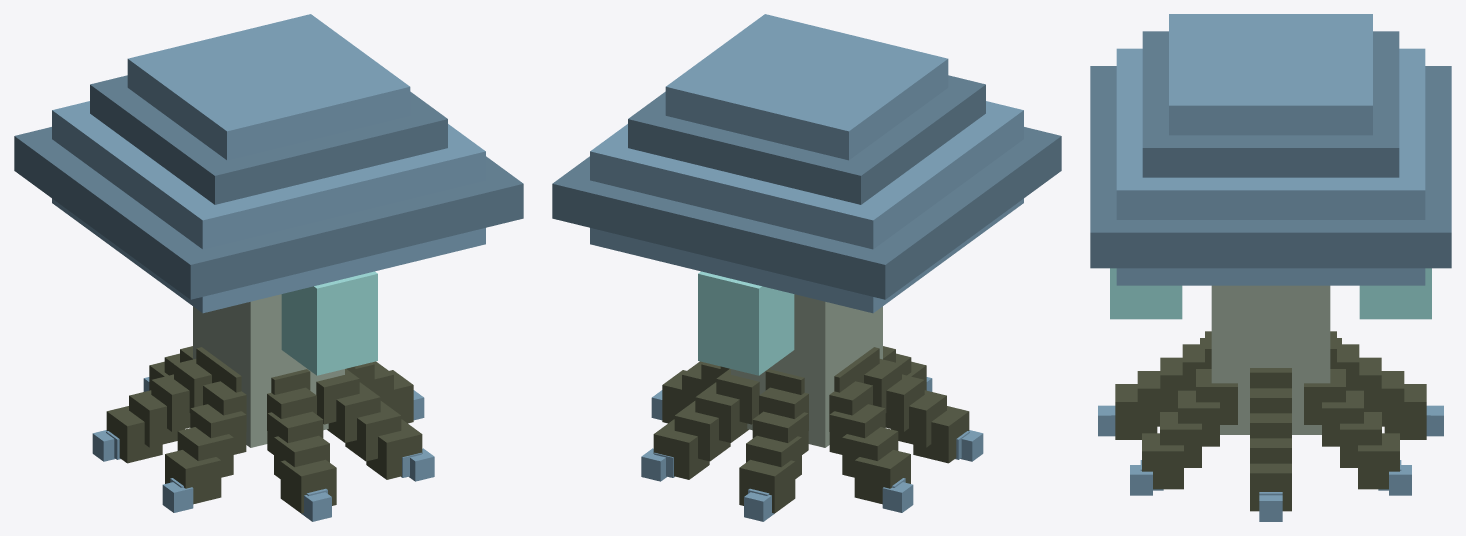
Rendered from fog-spore.glb.
3 views of the same model, side by side, from view 1: azimuth 30°, elevation 25°; view 2: azimuth 150°, elevation 25°; view 3: azimuth 270°, elevation 25° (orthographic). The views are drawn at different scales.
Parts seen in each view (by area): view 1: SporeCap, RootLimbs, HangingSporeSacs, Stem, RootTips; view 2: SporeCap, RootLimbs, HangingSporeSacs, Stem, RootTips; view 3: SporeCap, RootLimbs, Stem, HangingSporeSacs, RootTips.
Boxes of the visible parts, left/top/right/bottom form: SporeCap: left=14, top=14, right=523, bottom=313; RootLimbs: left=106, top=346, right=422, bottom=513; HangingSporeSacs: left=281, top=271, right=377, bottom=375; Stem: left=193, top=294, right=344, bottom=447; RootTips: left=92, top=377, right=434, bottom=521; SporeCap: left=552, top=14, right=1061, bottom=313; RootLimbs: left=653, top=346, right=969, bottom=513; HangingSporeSacs: left=698, top=271, right=794, bottom=375; Stem: left=731, top=294, right=882, bottom=447; RootTips: left=641, top=377, right=983, bottom=521; SporeCap: left=1090, top=14, right=1451, bottom=285; RootLimbs: left=1115, top=331, right=1426, bottom=511; Stem: left=1211, top=285, right=1330, bottom=434; HangingSporeSacs: left=1110, top=268, right=1431, bottom=319; RootTips: left=1098, top=405, right=1443, bottom=521.
Bounding box in the file's own units: 6 × 6.5 × 5.5.
